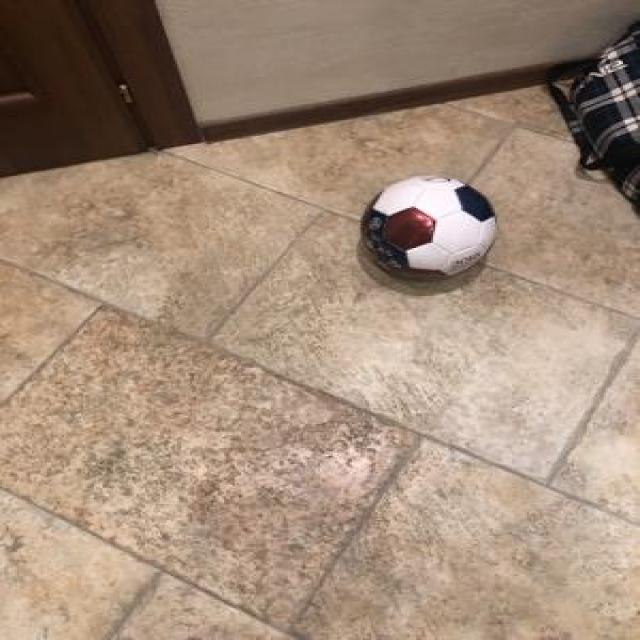Soccer Ball: (356, 171, 499, 280)
